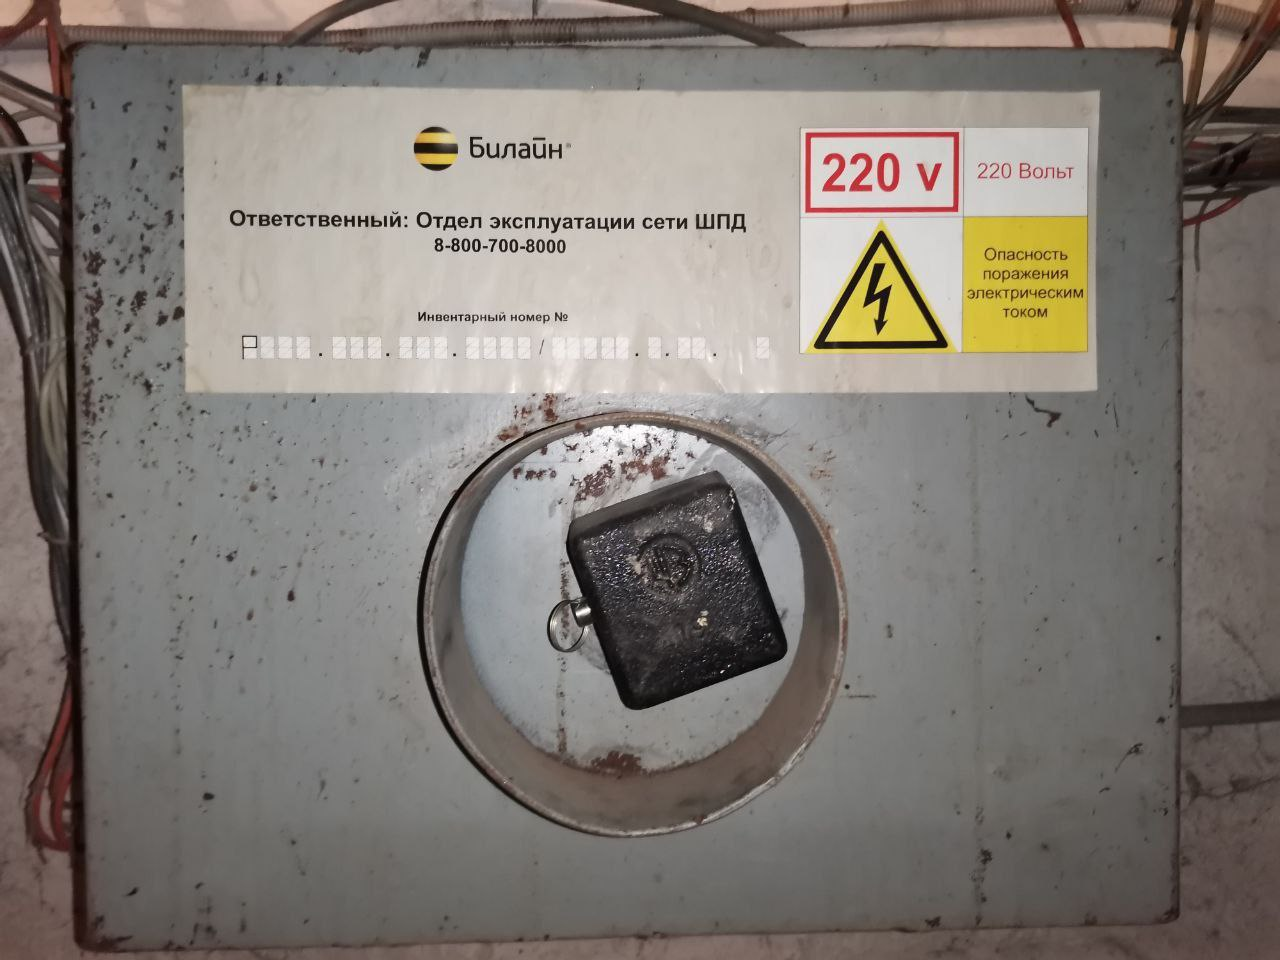shta-3: (65, 38, 1185, 950)
